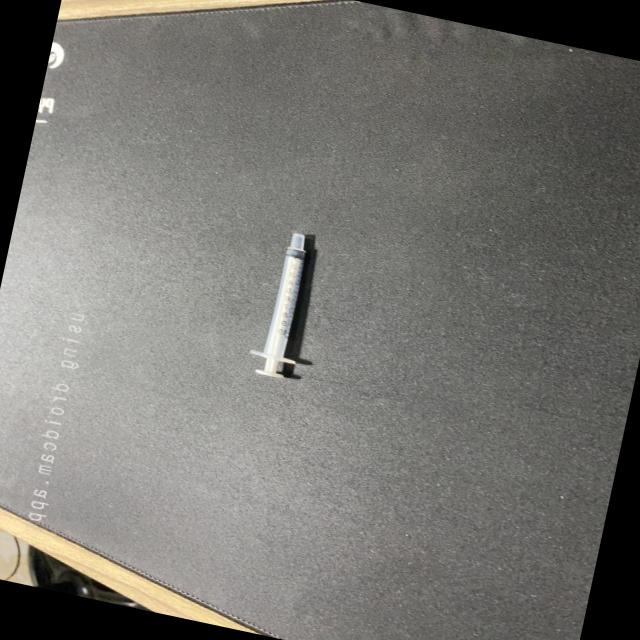syringe: (239, 218, 336, 388)
